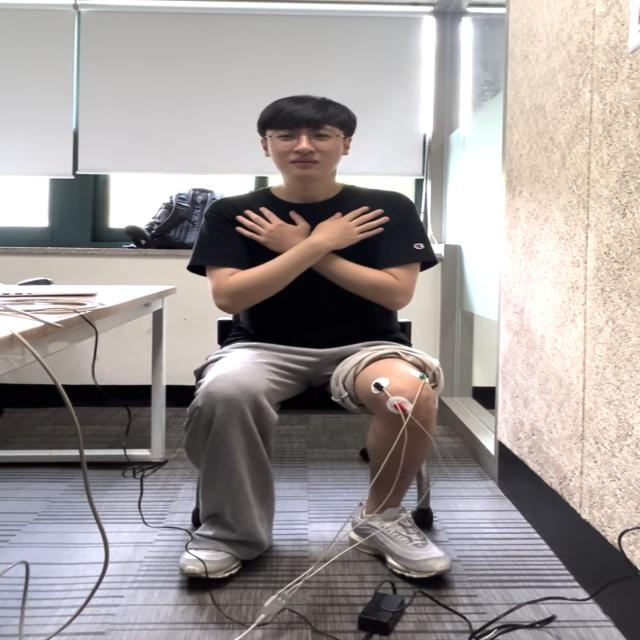squat: (175, 98, 458, 588), (304, 349, 520, 471), (162, 351, 326, 483)
